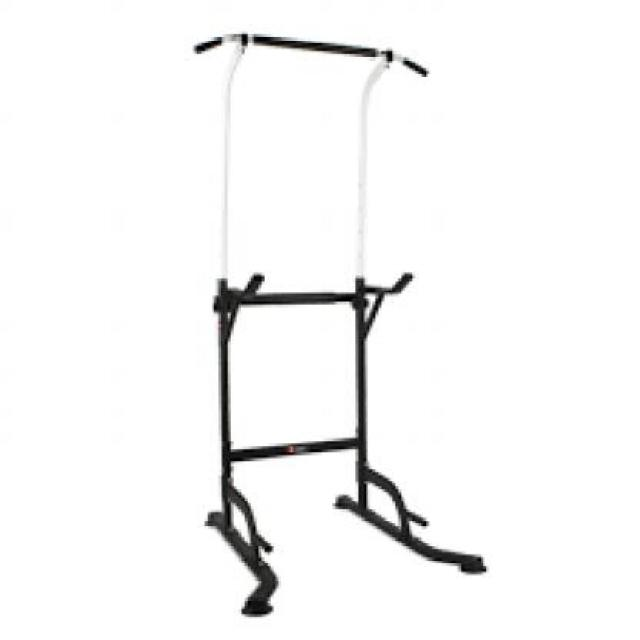chinning dipping: (191, 31, 489, 620)
